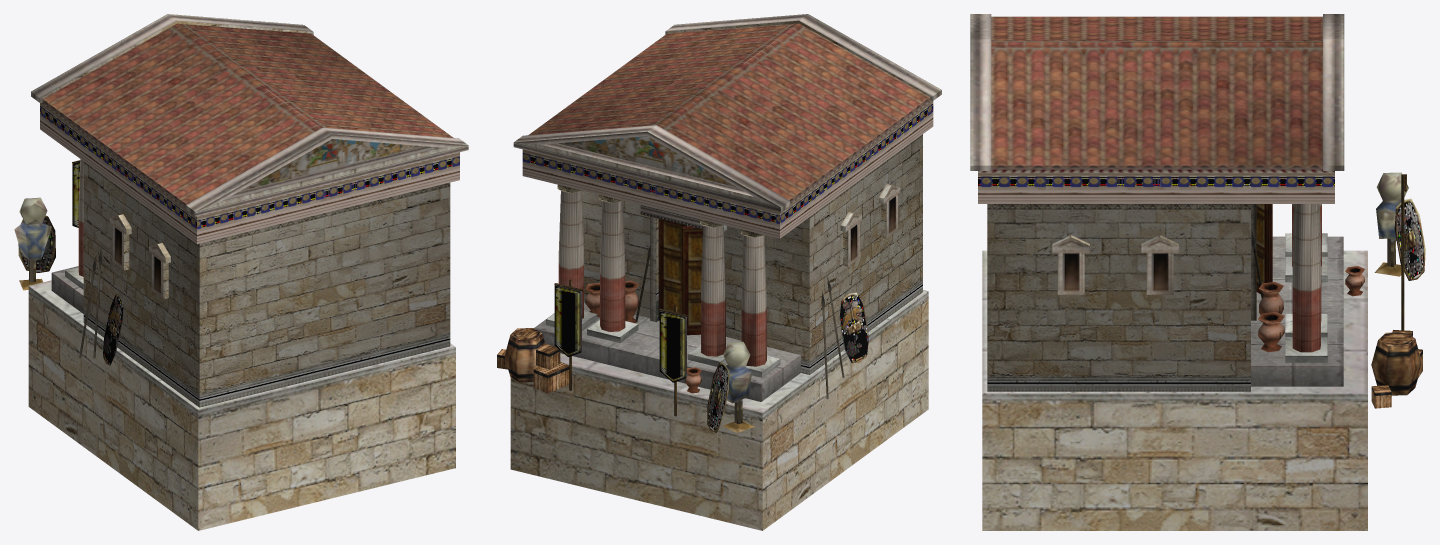
The model's file is s_carthaginians_embassy_italic.glb.
3 renders of one model, left to right at view 1: azimuth 30°, elevation 25°; view 2: azimuth 150°, elevation 25°; view 3: azimuth 270°, elevation 25°, orthographic. The views are drawn at different scales.
Parts seen in each view (by area): view 1: s_carthaginians_embassy_italic_part0; view 2: s_carthaginians_embassy_italic_part0; view 3: s_carthaginians_embassy_italic_part0.
Boxes of the visible parts, x1,y1,x2,y2 form: s_carthaginians_embassy_italic_part0: (14,14,468,530); s_carthaginians_embassy_italic_part0: (497,14,941,530); s_carthaginians_embassy_italic_part0: (970,14,1425,530).
Bounding box in the file's own units: 2.72 × 3.46 × 3.4.
Materials: 1 (1 with a texture image).
